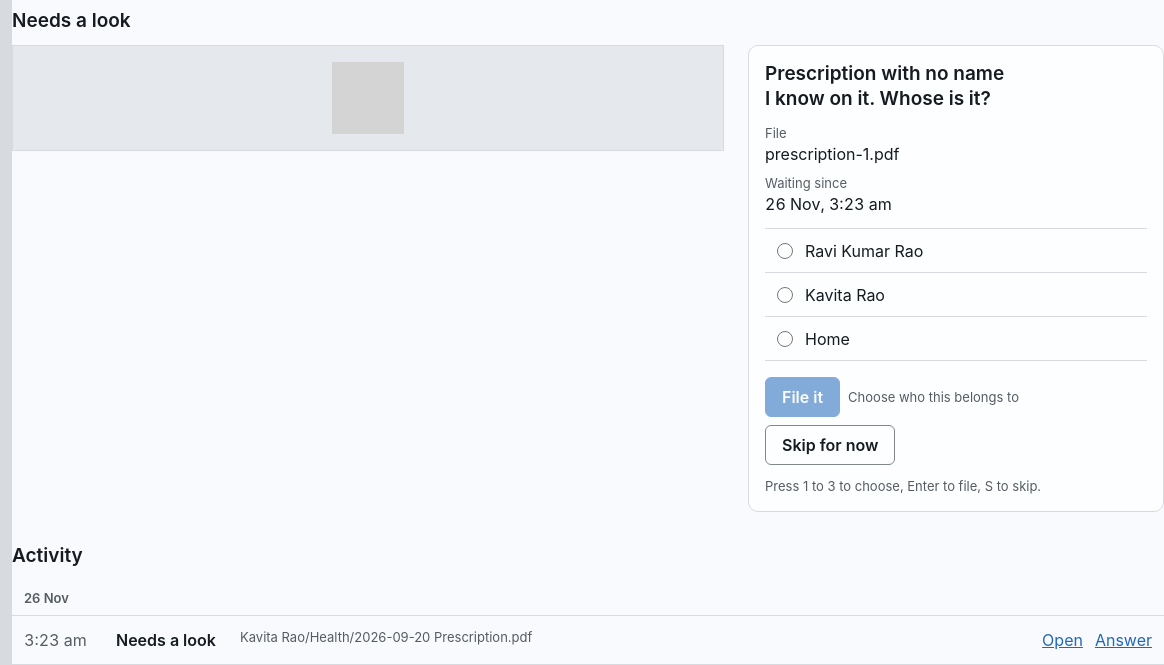
Test case: InboxPage › Answer in the activity list shows that file in the question
(page scrolled)
Expected: the heading "Prescription with no name I know on it. Whose is it?" is shown, left=765, top=62, right=1004, bottom=110
Click the button "Answer" at (1123, 640), box left=1095, top=628, right=1152, bottom=652
(page scrolled)
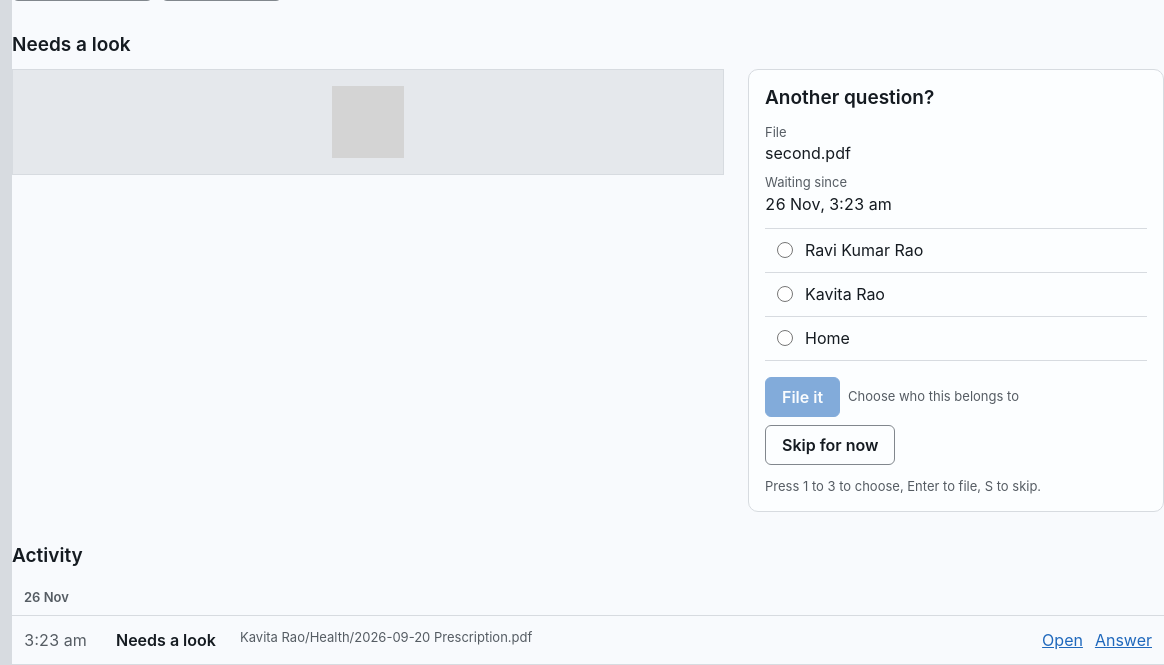
Expected: the heading "Another question?" is shown, left=765, top=86, right=934, bottom=109
